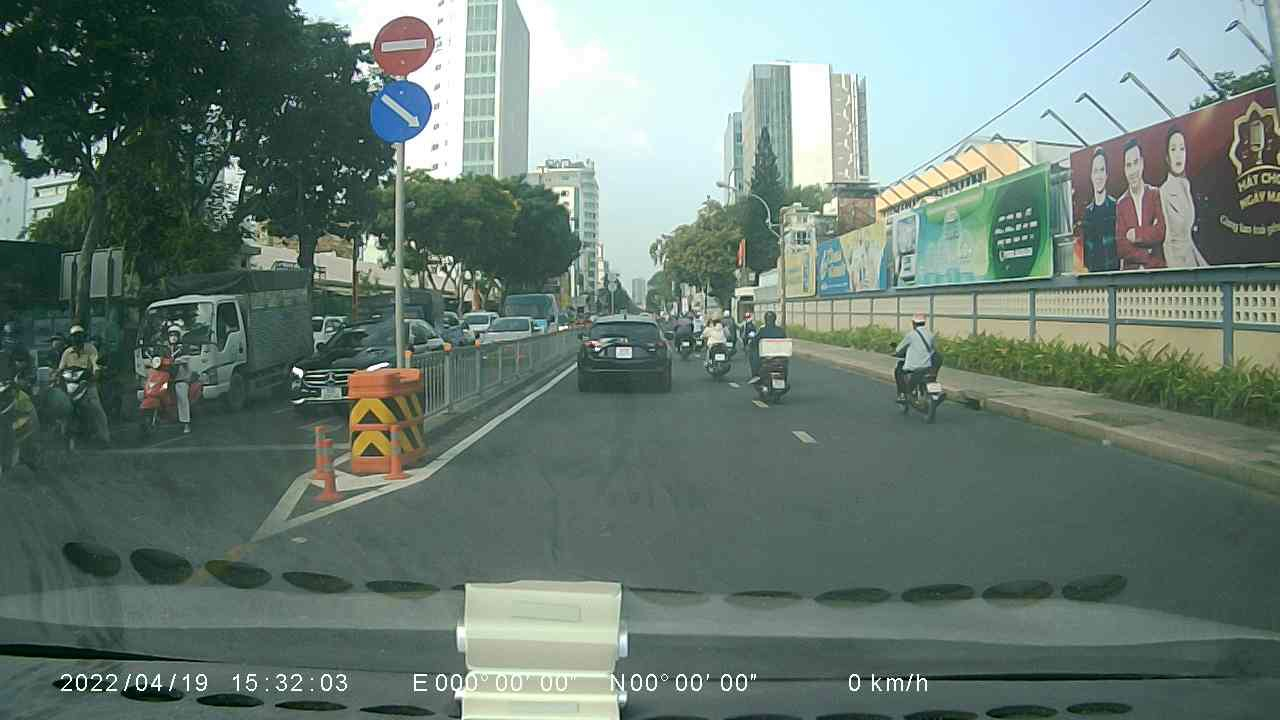Cam di nguoc chieu: (374, 15, 438, 77)
Huong di phai re phai: (371, 81, 433, 144)
